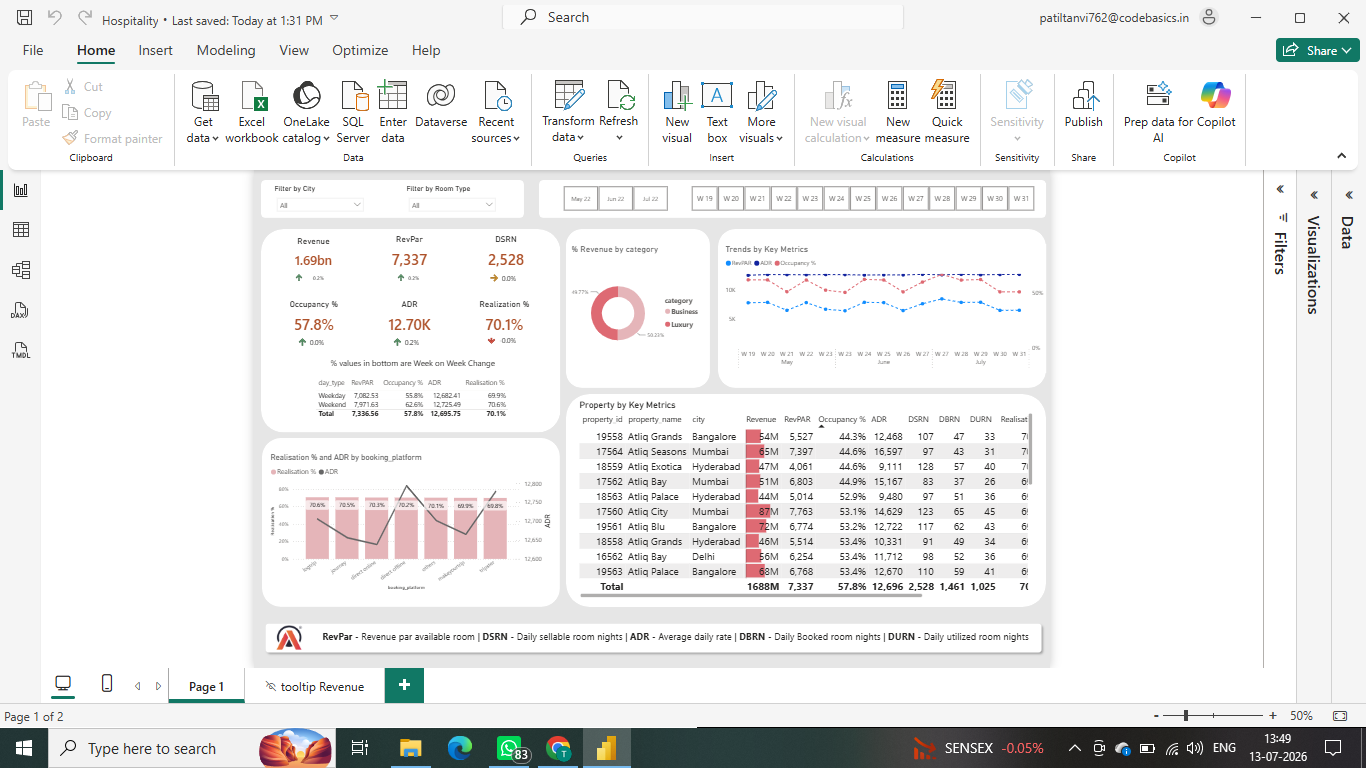

This screenshot's page, from the dashboard's own definition file:
{"tool":"powerbi","page":{"name":"Page 1","canvas":[1600,1000],"ordinal":0},"visuals":[{"type":"shape","box":[572.3,20.1,1018.1,76.3],"z":0},{"type":"shape","box":[626.5,449.8,963.9,427.7],"z":1000},{"type":"shape","box":[16.1,538.2,598.4,339.4],"z":2000},{"type":"shape","box":[931.7,118.5,658.6,319.3],"z":3000},{"type":"shape","box":[626.5,118.5,289.2,319.3],"z":4000},{"type":"shape","box":[13.8,118.8,601.2,408.8],"z":5000},{"type":"shape","box":[14.1,20.1,528.1,76.3],"z":6000},{"type":"tableEx","fields":{"Values":["Key Measures.Revenue WoW change %"]},"box":[72.5,173.8,93.8,70],"z":7000},{"type":"tableEx","title":"Property by Key Metrics","fields":{"Values":["dim_hotels.property_id","dim_hotels.property_name","dim_hotels.city","Key Measures.Revenue","Key Measures.RevPAR","Key Measures.Occupancy %","Key Measures.ADR","Key Measures.DSRN","Key Measures.DBRN","Key Measures.DURN","Key Measures.Realisation %","Key Measures.Cancellation %"]},"box":[648,462,920,402],"z":8000},{"type":"slicer","title":"Filter by City","fields":{"Values":["dim_hotels.city"]},"box":[36.6,29.2,193.8,56.7],"z":9000},{"type":"slicer","title":"Filter by Room Type","fields":{"Values":["dim_rooms.room_class"]},"box":[301.6,29.2,193.8,56.7],"z":10000},{"type":"slicer","fields":{"Values":["dim_date.mmm yy"]},"box":[596,26,258,62],"z":11000},{"type":"slicer","fields":{"Values":["dim_date.week no"]},"box":[853.4,26.1,736.9,62.2],"z":12000},{"type":"donutChart","title":"% Revenue by category","fields":{"Category":["dim_hotels.category"],"Y":["Key Measures.Occupancy %"]},"box":[632.5,148.6,275.1,259],"z":13000},{"type":"lineChart","title":"Trends by Key Metrics","fields":{"Category":["dim_date.mmm yy.Variation.Date Hierarchy.Month","dim_date.week no"],"Y":["Key Measures.RevPAR","Key Measures.ADR"],"Y2":["Key Measures.Occupancy %"]},"box":[941.8,148.6,648.6,259],"z":14000},{"type":"lineStackedColumnComboChart","fields":{"Category":["fact_bookings.booking_platform"],"Y":["Key Measures.Realisation %"],"Y2":["Key Measures.ADR"]},"box":[28.8,567.5,572.5,280],"z":15000},{"type":"tableEx","fields":{"Values":["dim_date.day_type","Key Measures.RevPAR","Key Measures.Occupancy %","Key Measures.ADR","Key Measures.Realisation %"]},"box":[118.8,413.8,422.5,96.2],"z":16000},{"type":"shape","box":[14.1,901.6,1576.3,76.3],"z":17000},{"type":"textbox","box":[132.5,919.7,1439.8,58.2],"z":18000},{"type":"image","box":[36.1,913.7,70.3,50.2],"z":19000},{"type":"textbox","box":[148.6,371.5,363.5,58.2],"z":20000},{"type":"cardVisual","title":"Revenue","fields":{"Data":["Key Measures.Revenue"]},"box":[42.2,132.5,154.6,76.3],"z":22000},{"type":"tableEx","fields":{"Values":["Key Measures.Revpar WoW change %"]},"box":[277.5,173.8,80,70],"z":23000},{"type":"cardVisual","title":"RevPar","fields":{"Data":["Key Measures.RevPAR"]},"box":[234.9,128.5,154.6,80.3],"z":24000},{"type":"tableEx","fields":{"Values":["Key Measures.DSRN WoW change %"]},"box":[463.8,173.8,97.5,73.8],"z":25000},{"type":"cardVisual","title":"DSRN","fields":{"Data":["Key Measures.DSRN"]},"box":[439.8,128.5,132.5,80.3],"z":26000},{"type":"tableEx","fields":{"Values":["Key Measures.Occupancy WoW change %"]},"box":[77.5,302.5,85,68.8],"z":27000},{"type":"cardVisual","title":"Occupancy %","fields":{"Data":["Key Measures.Occupancy %"]},"box":[36.1,259,168.7,78.3],"z":28000},{"type":"tableEx","fields":{"Values":["Key Measures.ADR WoW change %"]},"box":[268.8,302.5,97.5,71.2],"z":29000},{"type":"cardVisual","title":"ADR","fields":{"Data":["Key Measures.ADR"]},"box":[234.9,259,154.6,78.3],"z":30000},{"type":"tableEx","fields":{"Values":["Key Measures.Realisation WoW change %"]},"box":[457.5,300,97.5,71.2],"z":31000},{"type":"cardVisual","title":"Realization %","fields":{"Data":["Key Measures.Realisation %"]},"box":[423.7,259,158.6,78.3],"z":32500}]}

Visuals, with their boxes on the page's 1600x1000 design canvas (x1, y1, x2, y2). These are canvas units, not pixel positions in the 1366x768 screenshot, which may show the page scaled, cropped or inside an application window:
shape: crop(572, 20, 1590, 96)
shape: crop(626, 450, 1590, 878)
shape: crop(16, 538, 614, 878)
shape: crop(932, 118, 1590, 438)
shape: crop(626, 118, 916, 438)
shape: crop(14, 119, 615, 528)
shape: crop(14, 20, 542, 96)
tableEx - Key Measures.Revenue WoW change %: crop(72, 174, 166, 244)
"Property by Key Metrics" tableEx: crop(648, 462, 1568, 864)
"Filter by City" slicer: crop(37, 29, 230, 86)
"Filter by Room Type" slicer: crop(302, 29, 495, 86)
slicer - dim_date.mmm yy: crop(596, 26, 854, 88)
slicer - dim_date.week no: crop(853, 26, 1590, 88)
"% Revenue by category" donutChart: crop(632, 149, 908, 408)
"Trends by Key Metrics" lineChart: crop(942, 149, 1590, 408)
lineStackedColumnComboChart - fact_bookings.booking_platform x Key Measures.Realisation %: crop(29, 568, 601, 848)
tableEx - dim_date.day_type x Key Measures.RevPAR: crop(119, 414, 541, 510)
shape: crop(14, 902, 1590, 978)
textbox: crop(132, 920, 1572, 978)
image: crop(36, 914, 106, 964)
textbox: crop(149, 372, 512, 430)
"Revenue" cardVisual: crop(42, 132, 197, 209)
tableEx - Key Measures.Revpar WoW change %: crop(278, 174, 358, 244)
"RevPar" cardVisual: crop(235, 128, 390, 209)
tableEx - Key Measures.DSRN WoW change %: crop(464, 174, 561, 248)
"DSRN" cardVisual: crop(440, 128, 572, 209)
tableEx - Key Measures.Occupancy WoW change %: crop(78, 302, 162, 371)
"Occupancy %" cardVisual: crop(36, 259, 205, 337)
tableEx - Key Measures.ADR WoW change %: crop(269, 302, 366, 374)
"ADR" cardVisual: crop(235, 259, 390, 337)
tableEx - Key Measures.Realisation WoW change %: crop(458, 300, 555, 371)
"Realization %" cardVisual: crop(424, 259, 582, 337)
